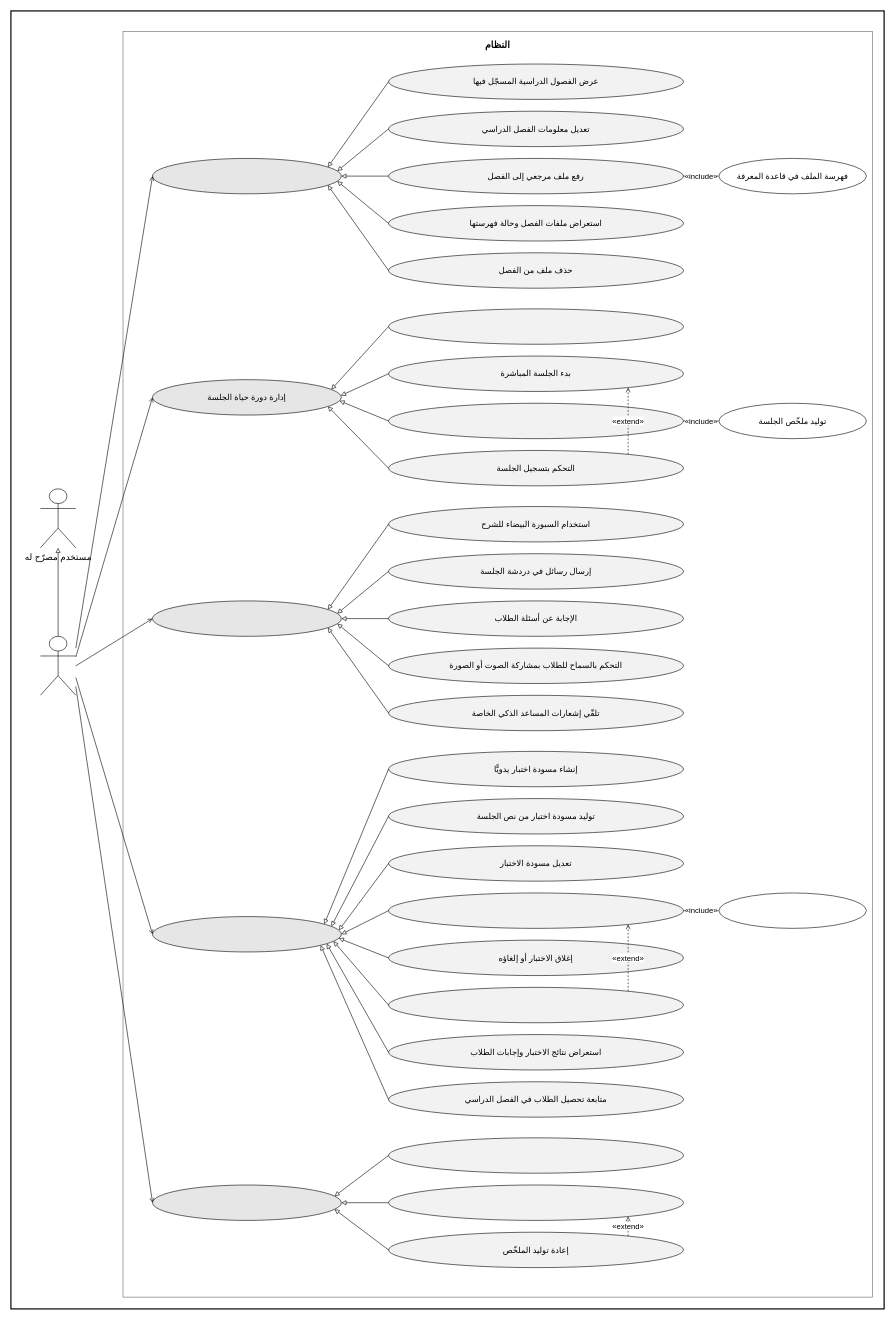
Image size: 894x1319. Some labels were removed from this diagram. The box of each missing label's shape, as (x1, y1, x2, y2) in pixels:
إدارة الاختبارات داخل الجلسة: (152, 916, 341, 952)
إدارة التفاعل داخل الجلسة: (152, 600, 341, 636)
إدارة الفصل ومواده المرجعية: (152, 158, 341, 194)
إشعار الطلاب بفتح الاختبار: (718, 892, 866, 928)
إنشاء جلسة تعلم: (388, 308, 684, 344)
إنهاء الجلسة: (388, 403, 684, 439)
استعراض تسجيل الجلسة وتنزيله: (388, 1137, 684, 1173)
استعراض ملخّص الجلسة وتنزيله: (388, 1184, 684, 1220)
الاطّلاع على مخرجات الجلسة: (152, 1184, 341, 1220)
المعلم: (40, 636, 76, 695)
تمديد مهلة الإجابة: (388, 987, 684, 1023)
نشر الاختبار: (388, 892, 684, 928)
